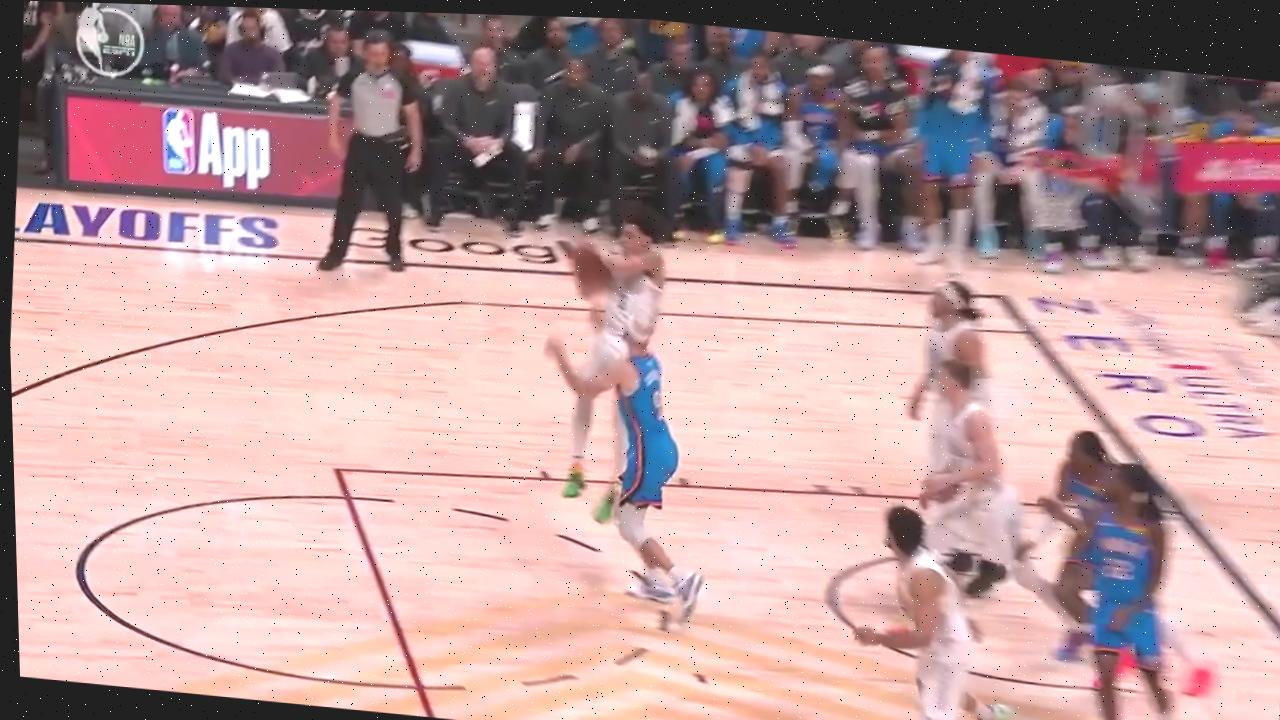foul: (515, 177, 752, 632)
